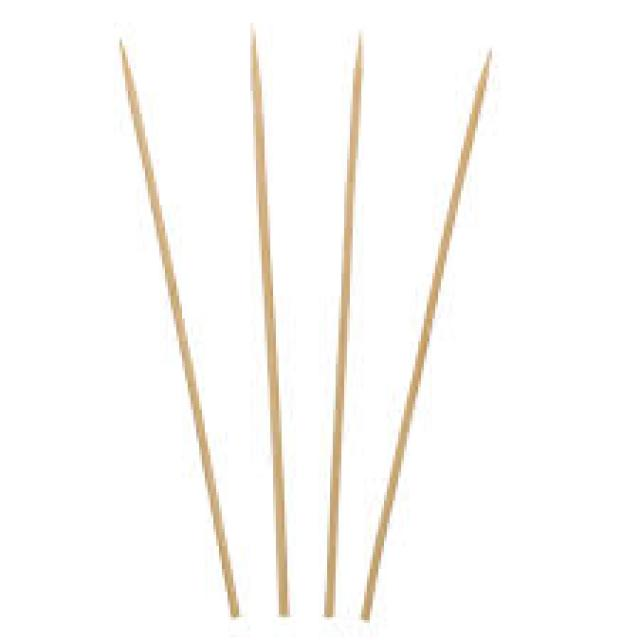stick: (361, 51, 491, 619), (121, 42, 236, 617), (253, 30, 286, 616), (330, 36, 361, 617)
